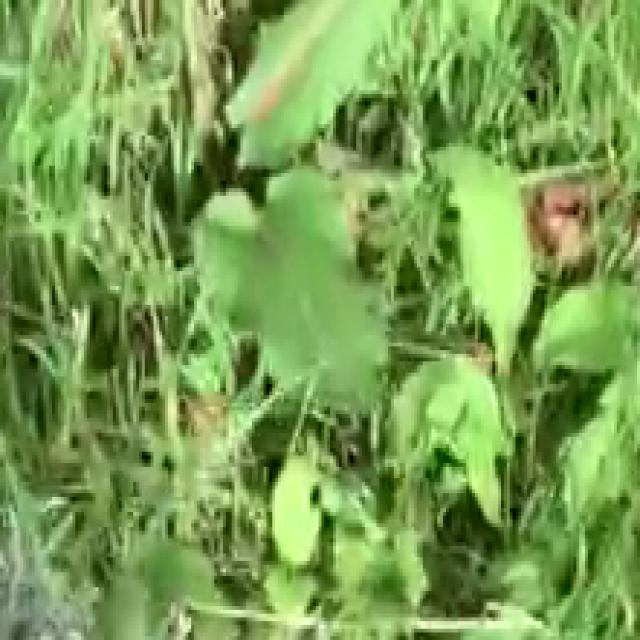organic waste: (87, 0, 446, 418), (365, 135, 640, 625)
